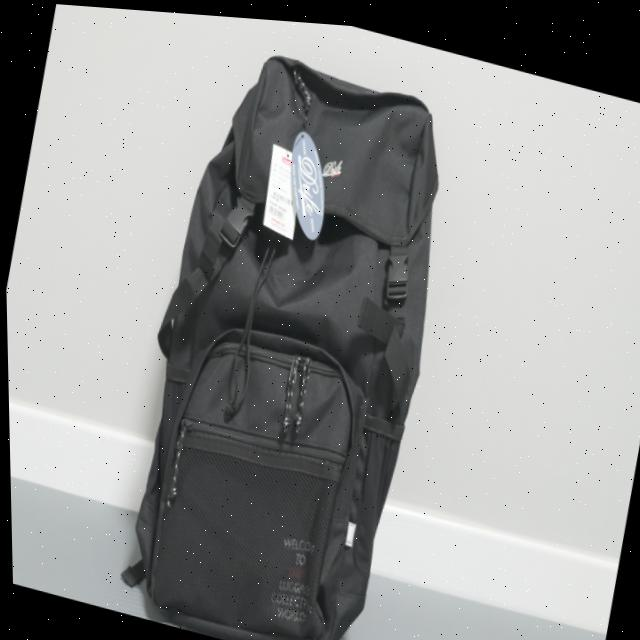backpack: (81, 15, 481, 640)
